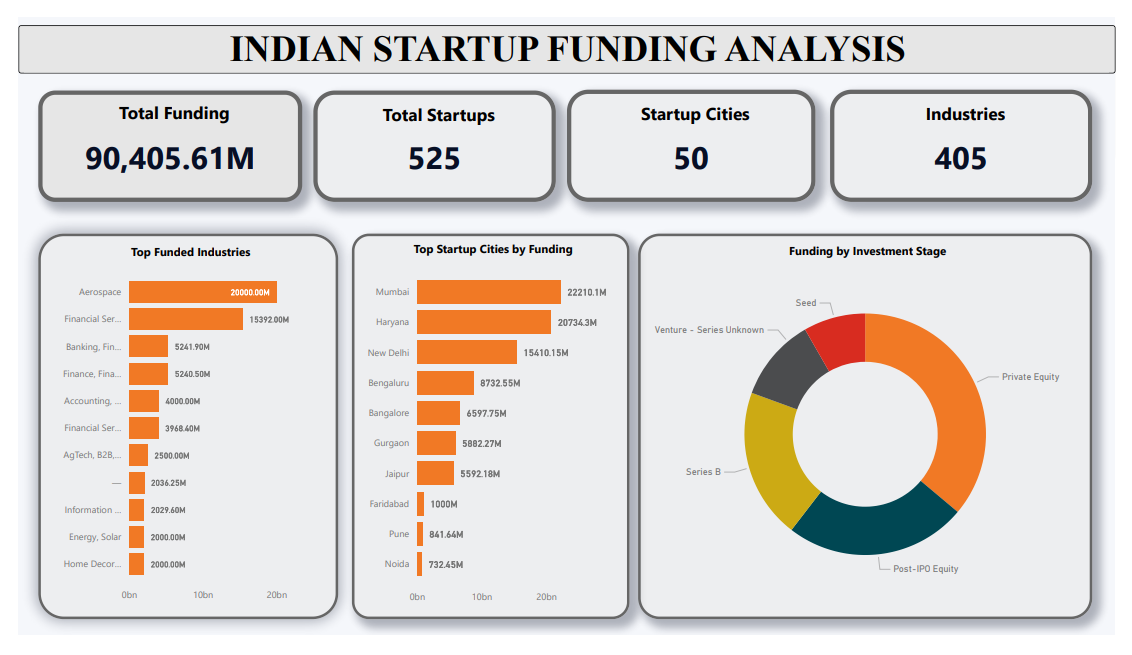

The page's visual inventory and layout, read from the dashboard file:
{"tool":"powerbi","page":{"name":"Page 1","canvas":[1280,720],"ordinal":0},"visuals":[{"type":"card","title":"Total Funding","fields":{"Values":["Sum(startup_funding2018.Amount)"]},"box":[22.9,84.3,308.6,130],"z":0},{"type":"card","title":"Total Startups","fields":{"Values":["Count(startup_funding2018.Company Name)"]},"box":[344.3,84.3,282.9,130],"z":1000},{"type":"clusteredBarChart","title":"Top Funded Industries","fields":{"Category":["startup_funding2018.Industry"],"Y":["Sum(startup_funding2018.Amount)"]},"box":[22.9,251.4,350,450],"z":2000},{"type":"clusteredBarChart","title":"Top Startup Cities by Funding","fields":{"Category":["startup_funding2018.City"],"Y":["Sum(startup_funding2018.Amount)"]},"box":[388.6,251.4,324.3,450],"z":3000},{"type":"donutChart","title":"Funding by Investment Stage","fields":{"Category":["startup_funding2018.Round/Series"],"Y":["Sum(startup_funding2018.Amount)"]},"box":[722.9,251.4,530,450],"z":4000},{"type":"card","title":"Startup Cities","fields":{"Values":["Count(startup_funding2018.City)"]},"box":[640,82.9,290,131.4],"z":5000},{"type":"card","title":"Industries","fields":{"Values":["Count(startup_funding2018.Industry)"]},"box":[947.1,82.9,305.7,131.4],"z":6000},{"type":"textbox","title":"INDIAN STARTUP FUNDING ANALYSIS","box":[0,8.6,1280.3,55],"z":7000}]}

Visuals, with their boxes in screenshot pixels (x1, y1, x2, y2), scaled from the page's 1280x720 canvas onto the 1132x655 screenshot:
"Total Funding" card: 20 77 293 195
"Total Startups" card: 304 77 555 195
"Top Funded Industries" clusteredBarChart: 20 229 330 638
"Top Startup Cities by Funding" clusteredBarChart: 344 229 630 638
"Funding by Investment Stage" donutChart: 639 229 1108 638
"Startup Cities" card: 566 75 822 195
"Industries" card: 838 75 1108 195
"INDIAN STARTUP FUNDING ANALYSIS" textbox: 0 8 1131 58
